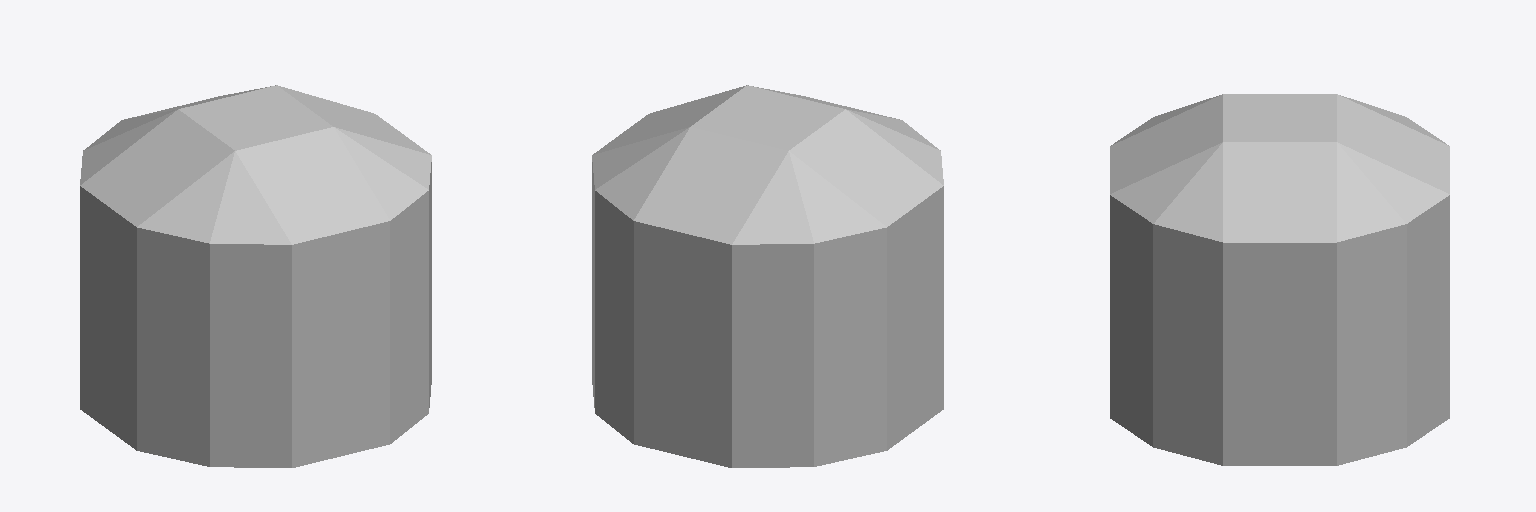
The model's file is glass_bell.obj.
The picture shows the model from 3 angles: view 1: azimuth 30°, elevation 25°; view 2: azimuth 150°, elevation 25°; view 3: azimuth 270°, elevation 25°; orthographic projection.
Parts seen in each view (by area): view 1: glass_bell_Dome, glass_bell_dup_Dome.001; view 2: glass_bell_Dome, glass_bell_dup_Dome.001; view 3: glass_bell_Dome, glass_bell_dup_Dome.001.
Part boxes in pixels (x1,y1,x2,y2): glass_bell_Dome: (80, 85, 431, 467); glass_bell_dup_Dome.001: (80, 85, 431, 467); glass_bell_Dome: (592, 85, 943, 467); glass_bell_dup_Dome.001: (592, 85, 943, 467); glass_bell_Dome: (1110, 94, 1449, 465); glass_bell_dup_Dome.001: (1110, 94, 1449, 465).
Bounding box in the file's own units: 0.739 × 0.66 × 0.739.